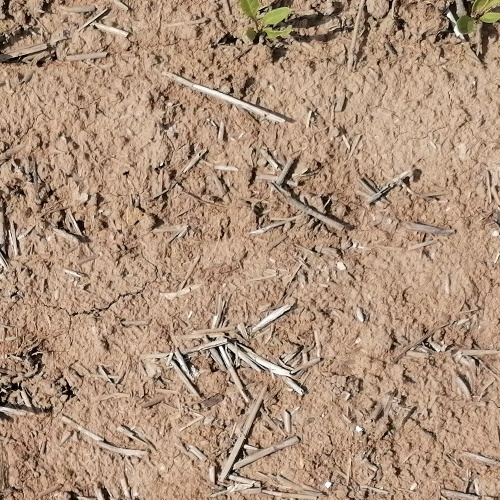beet: (237, 0, 291, 41), (458, 0, 500, 34)
